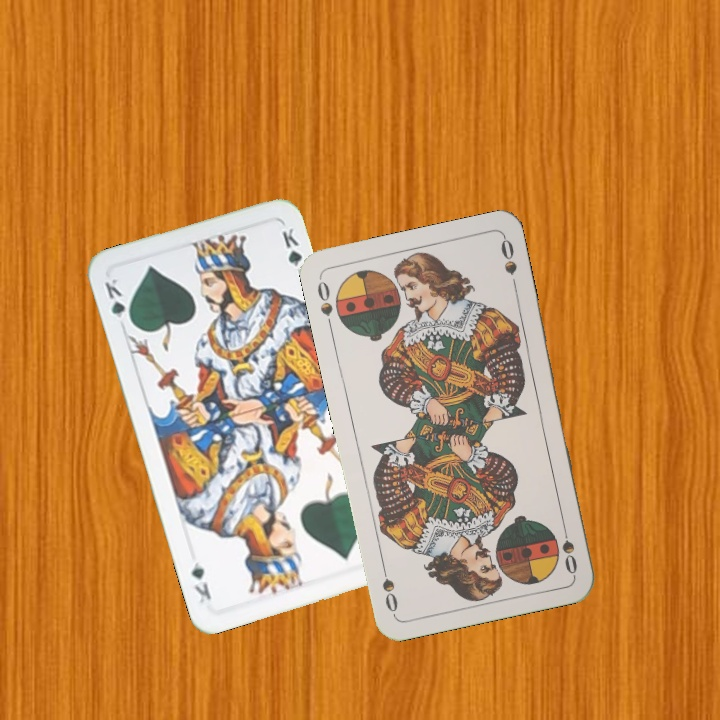GK: (100, 273, 135, 332)
SO: (557, 518, 580, 577), (313, 274, 336, 333)
